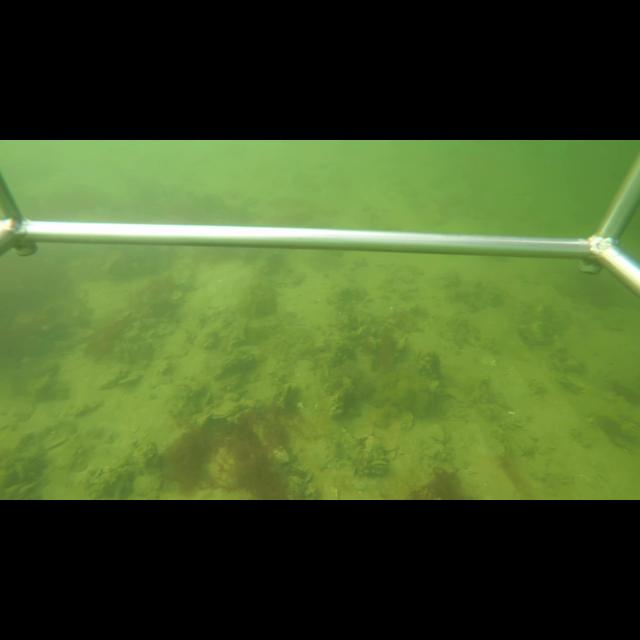Oyster-Closed: (206, 400, 242, 420)
